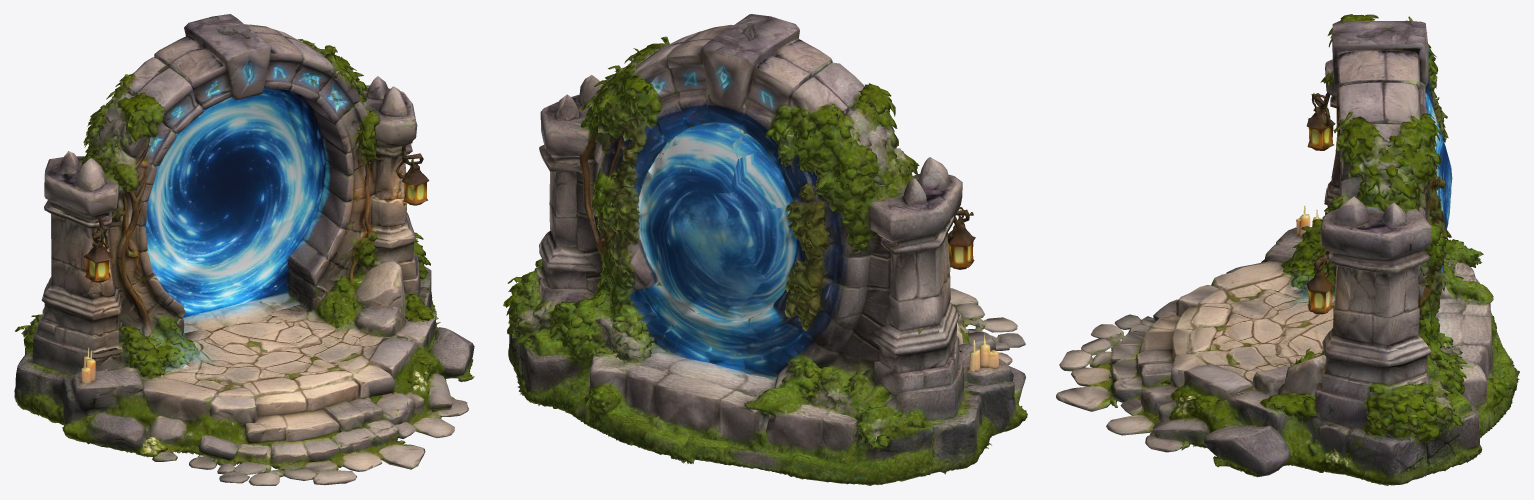
Rendered from The_Arcane_Gateway.glb.
3 renders of one model, left to right at view 1: azimuth 30°, elevation 25°; view 2: azimuth 150°, elevation 25°; view 3: azimuth 270°, elevation 25°, orthographic. The views are drawn at different scales.
Visible parts, largest first — view 1: The_Arcane_Gateway; view 2: The_Arcane_Gateway; view 3: The_Arcane_Gateway.
Boxes of the visible parts, bbox=[...] form: The_Arcane_Gateway: bbox=[14, 14, 474, 485]; The_Arcane_Gateway: bbox=[503, 14, 1027, 485]; The_Arcane_Gateway: bbox=[1056, 14, 1519, 485].
Bounding box in the file's own units: 1.88 × 1.45 × 1.72.
Materials: 1 (1 with a texture image).
